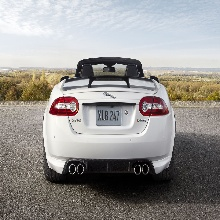no damage: (43, 57, 175, 180)
